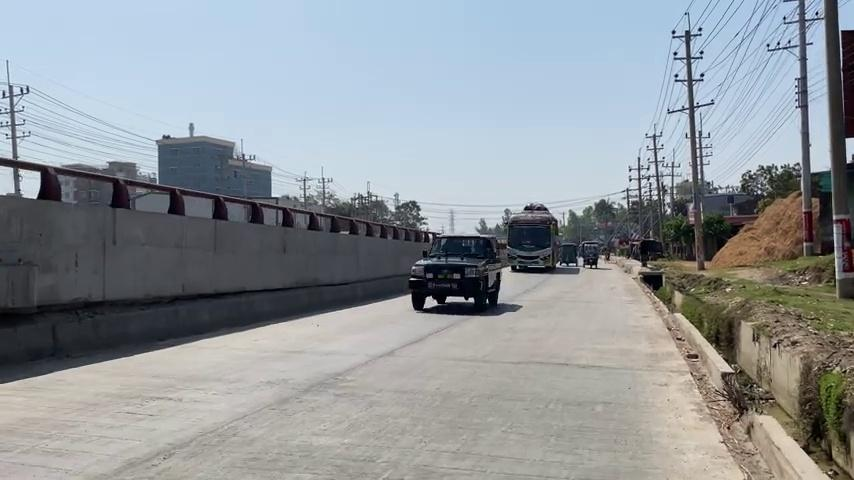Bollard: (407, 233, 502, 311)
Fallen-tree: (0, 134, 359, 361)
Garbage: (670, 12, 709, 269), (782, 0, 820, 256), (822, 0, 853, 299)
Garbage-bin: (694, 340, 854, 480), (641, 269, 663, 290)
Rickshaw: (505, 201, 559, 272)
